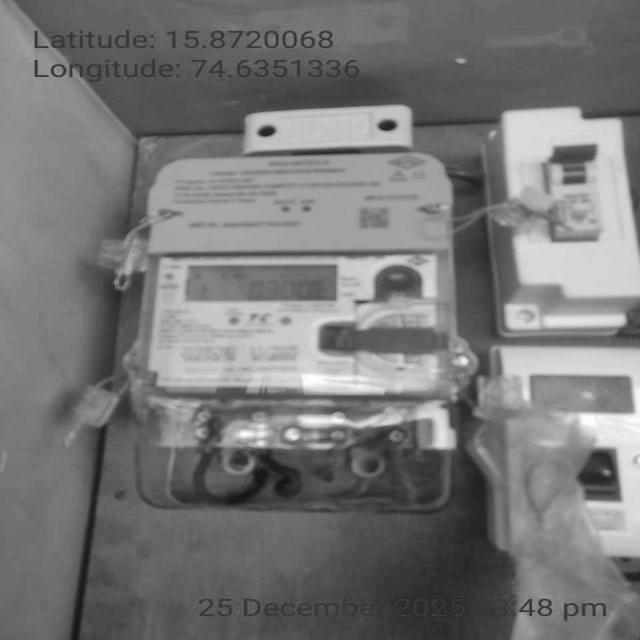meter: (144, 155, 449, 400)
